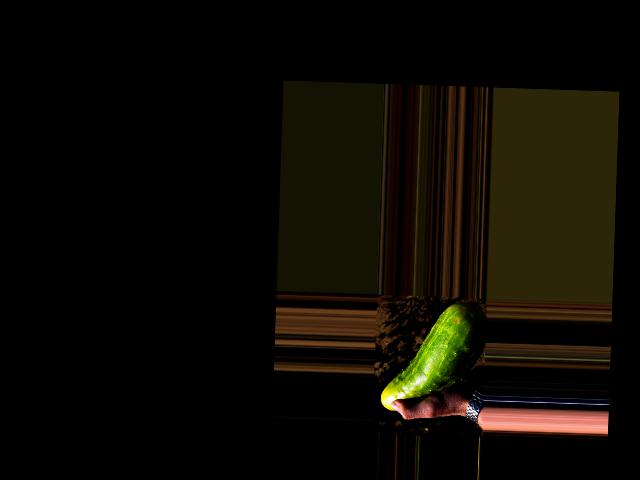cucumber: (380, 298, 488, 413)
